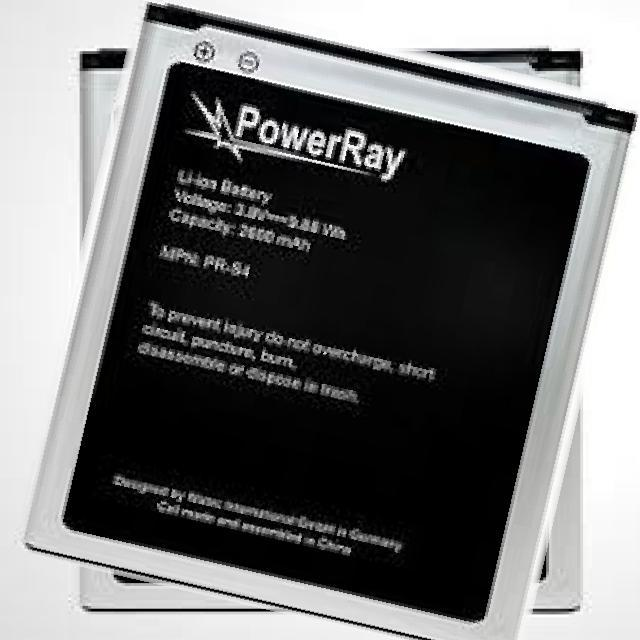Battery: (15, 0, 639, 639)
